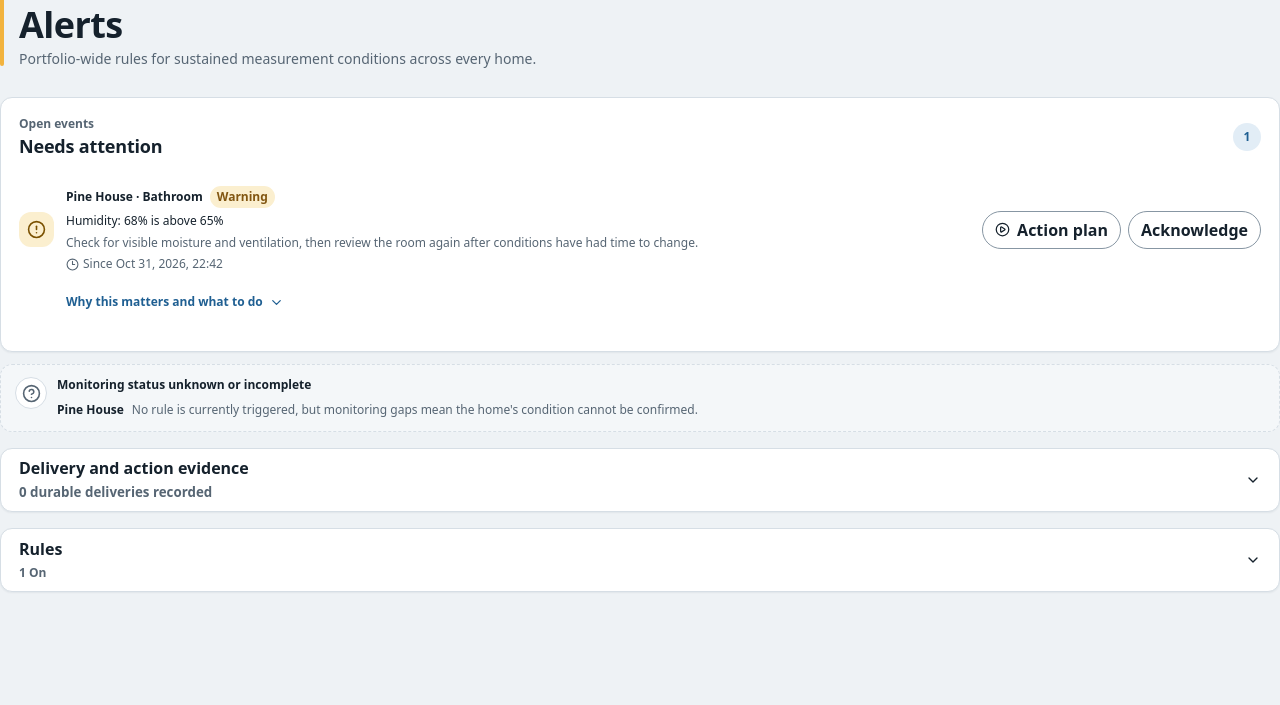
frontend regressions › exposes alert-rule severity as text in the disclosed rules list
This screenshot has width=1280, height=705.
Step 1. Click the text "Rules" → coordinates (41, 549), box [19,537,62,561]
(page scrolled)
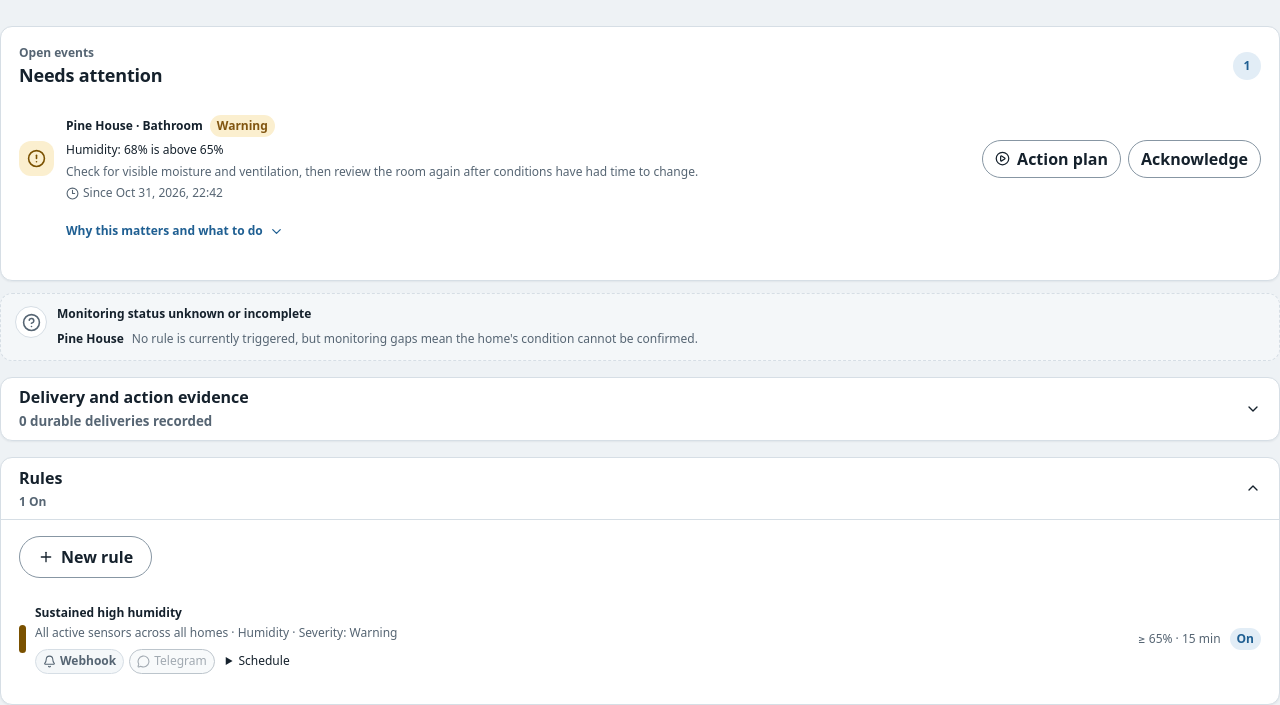
Expected: the element with class "alerts-rule-admin" is shown, [0,456,1279,704]
Result: the text "Warning" is shown at [350,624,397,640]
